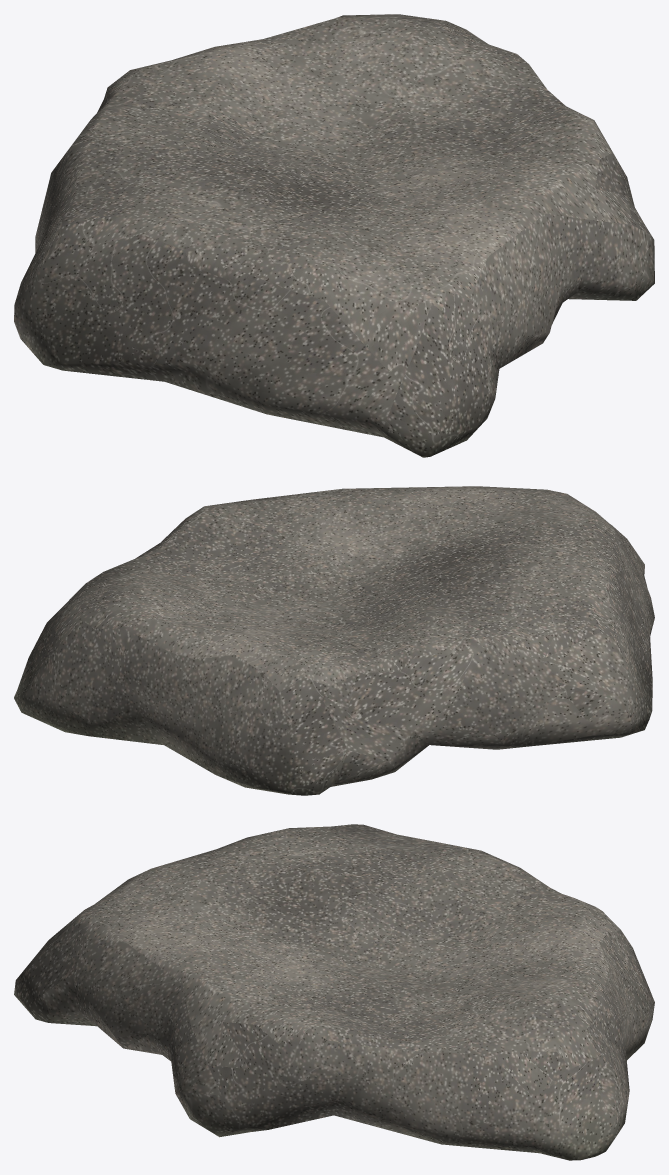
File: Pebble_Round_3.gltf
3 renders of one model, top to bottom at view 1: azimuth 30°, elevation 25°; view 2: azimuth 150°, elevation 25°; view 3: azimuth 270°, elevation 25°, orthographic. The views are drawn at different scales.
Visible parts, largest first — view 1: Pebble_Round_3; view 2: Pebble_Round_3; view 3: Pebble_Round_3.
Part boxes in pixels (x1,y1,x2,y2): Pebble_Round_3: (14, 14, 654, 457); Pebble_Round_3: (14, 486, 654, 795); Pebble_Round_3: (14, 824, 654, 1160).
Size of the model in its own units: 0.4274 by 0.106 by 0.4574.
1 material, 1 textured.
